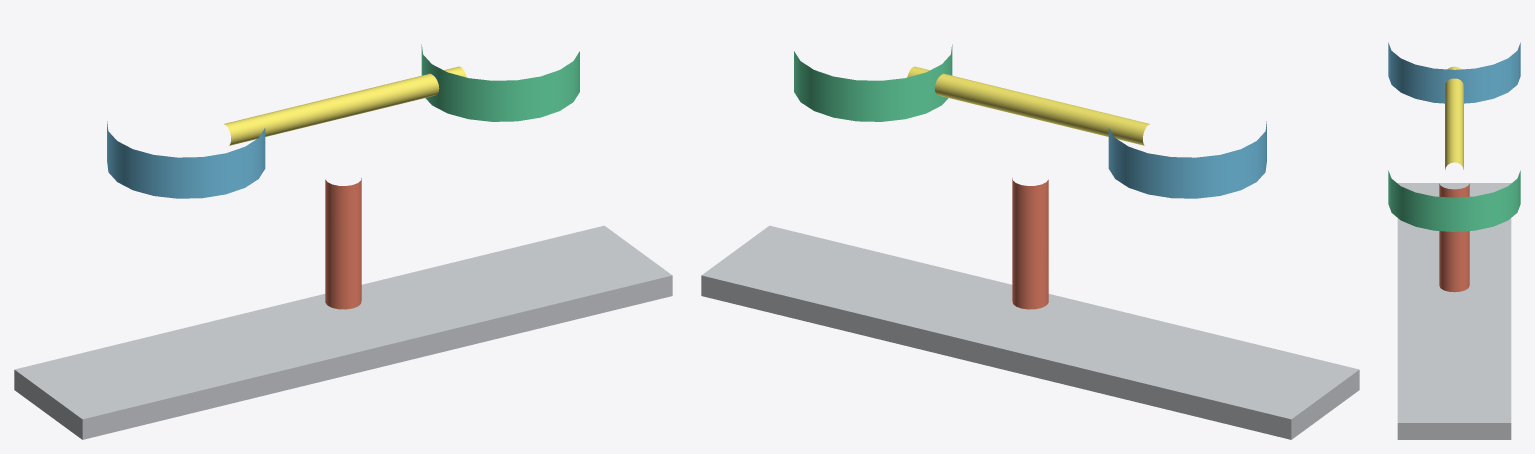
The model's file is theory_of_computation.glb.
The picture shows the model from 3 angles, left to right: view 1: azimuth 30°, elevation 25°; view 2: azimuth 150°, elevation 25°; view 3: azimuth 270°, elevation 25°; orthographic projection. The views are drawn at different scales.
Parts seen in each view (by area): view 1: TuringTapeRibbon, DFAStateRingQ0, DFAStateRingQ1, TransitionArrowBar, ReadWriteHeadNeedle; view 2: TuringTapeRibbon, DFAStateRingQ0, DFAStateRingQ1, TransitionArrowBar, ReadWriteHeadNeedle; view 3: TuringTapeRibbon, DFAStateRingQ1, DFAStateRingQ0, ReadWriteHeadNeedle, TransitionArrowBar.
Part boxes in pixels (x1,y1,x2,y2): TuringTapeRibbon: (14, 225, 672, 439); DFAStateRingQ0: (107, 121, 265, 198); DFAStateRingQ1: (421, 44, 579, 121); TransitionArrowBar: (224, 66, 466, 145); ReadWriteHeadNeedle: (325, 178, 361, 309); TuringTapeRibbon: (701, 225, 1359, 439); DFAStateRingQ0: (1108, 121, 1266, 198); DFAStateRingQ1: (794, 44, 952, 121); TransitionArrowBar: (907, 66, 1149, 145); ReadWriteHeadNeedle: (1012, 178, 1048, 309); TuringTapeRibbon: (1397, 183, 1511, 439); DFAStateRingQ1: (1388, 170, 1520, 231); DFAStateRingQ0: (1388, 42, 1520, 103); ReadWriteHeadNeedle: (1439, 183, 1469, 292); TransitionArrowBar: (1445, 66, 1463, 169).
Size of the model in its own units: 3 by 1.25 by 0.7.
